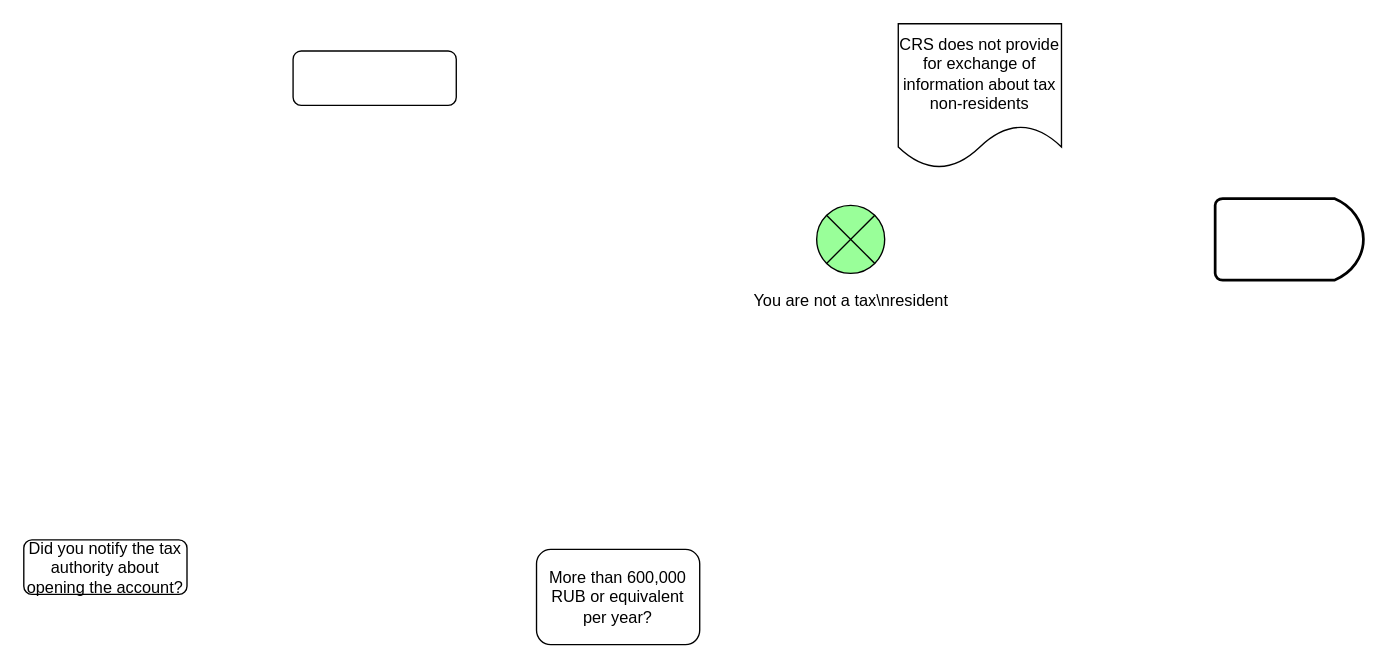
This 1389x669 diagram has some shape labels left out. The shapes that lost their labels are listed below. From the top down, each one's centre as x and y in pixels, then its label:
At (x=374, y=77): "Country of residence is part of the EAEU".
At (x=1288, y=239): "See 'Currency residency' diagram".
